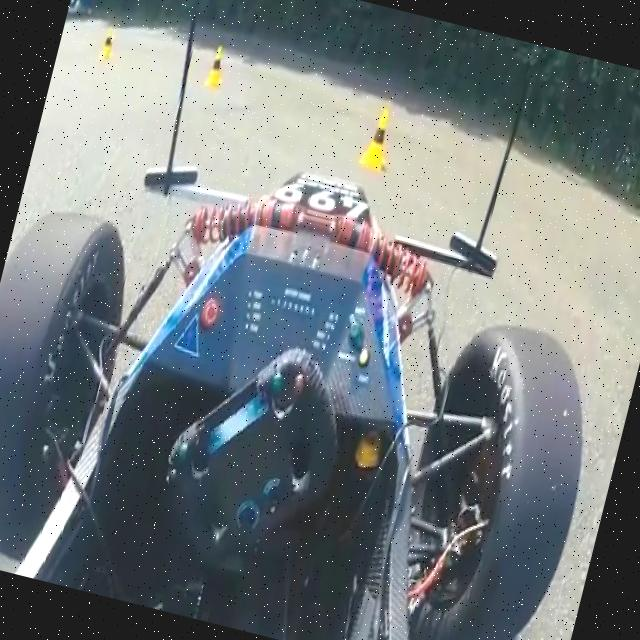yellow_cone: (358, 104, 400, 176), (203, 40, 232, 90), (98, 31, 118, 64)
